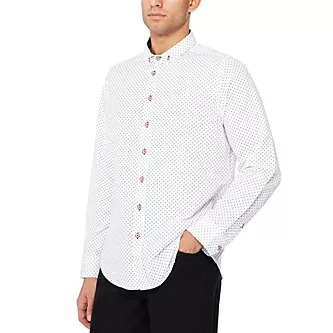C_shirt: (78, 39, 284, 292)
